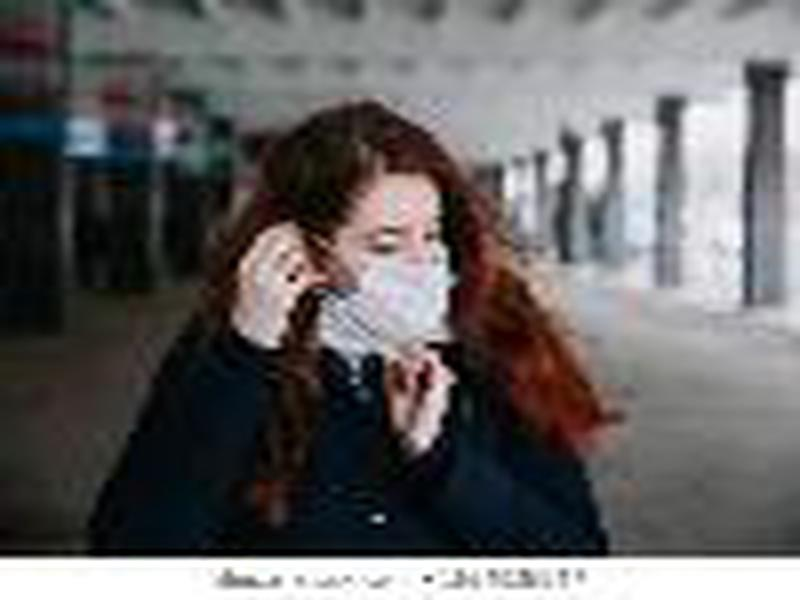with_mask: (252, 104, 461, 350)
